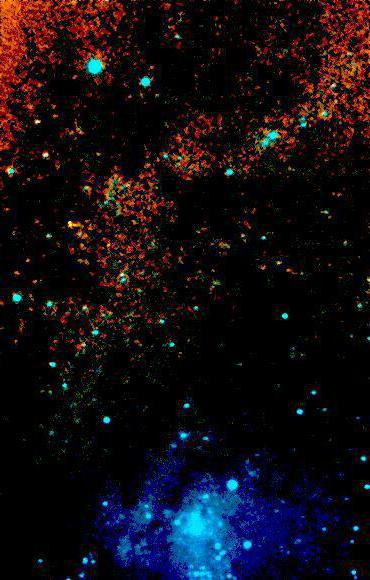star: (58, 209, 88, 239)
